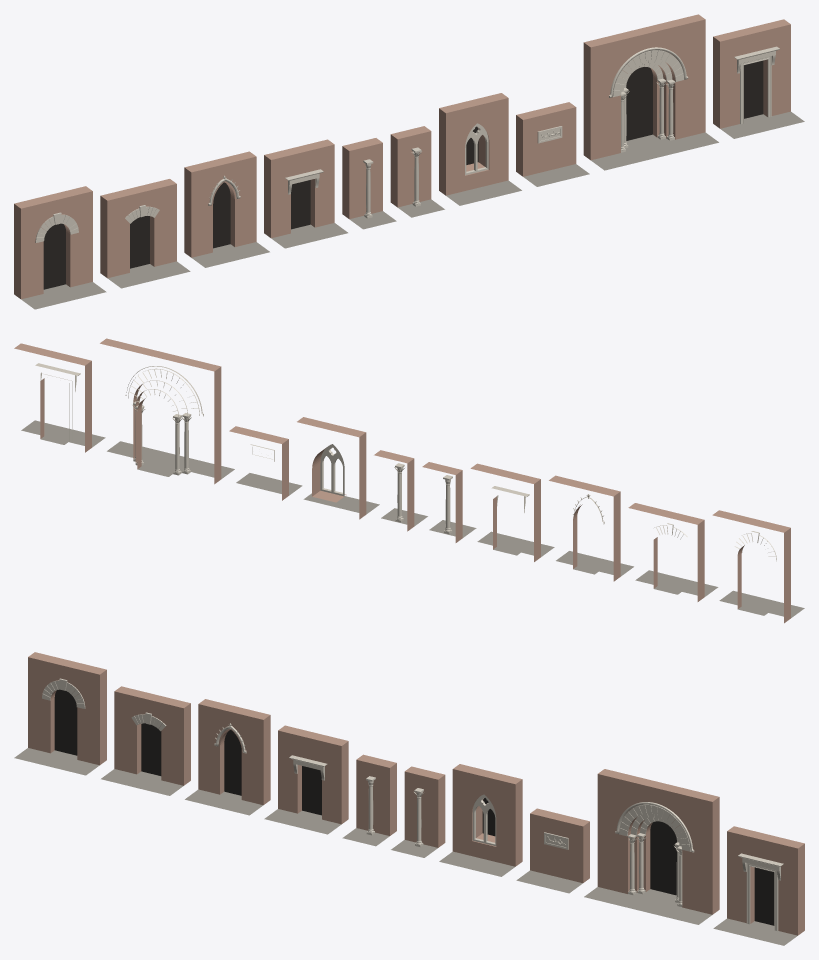
The model's file is k09_carved_trim_kit.glb.
3 renders of one model, top to bottom at view 1: azimuth 30°, elevation 25°; view 2: azimuth 150°, elevation 25°; view 3: azimuth 330°, elevation 25°, orthographic.
Parts seen in each view (by area): view 1: k09.surround.hero_romanesque, k09.trim.arch_ring_round, k09.surround.rowhouse_restrained, k09.trim.hood_pointed_crocketed, k09.trim.arch_ring_segmental, k09.trim.tracery_two_light, k09.trim.lintel_cornice_hood, k09.trim.foliate_panel, k09.trim.colonnette_foliate, k09.trim.colonnette_tuscan; view 2: k09.surround.hero_romanesque, k09.trim.tracery_two_light, k09.surround.rowhouse_restrained, k09.trim.arch_ring_round, k09.trim.arch_ring_segmental, k09.trim.hood_pointed_crocketed, k09.trim.lintel_cornice_hood, k09.trim.foliate_panel, k09.trim.colonnette_tuscan, k09.trim.colonnette_foliate; view 3: k09.surround.hero_romanesque, k09.trim.arch_ring_round, k09.surround.rowhouse_restrained, k09.trim.hood_pointed_crocketed, k09.trim.arch_ring_segmental, k09.trim.tracery_two_light, k09.trim.lintel_cornice_hood, k09.trim.foliate_panel, k09.trim.colonnette_foliate, k09.trim.colonnette_tuscan.
Part boxes in pixels (bbox=[...]): k09.surround.hero_romanesque: bbox=[583, 14, 718, 170]; k09.trim.arch_ring_round: bbox=[14, 186, 106, 309]; k09.surround.rowhouse_restrained: bbox=[713, 19, 804, 138]; k09.trim.hood_pointed_crocketed: bbox=[184, 151, 269, 267]; k09.trim.arch_ring_segmental: bbox=[100, 179, 190, 288]; k09.trim.tracery_two_light: bbox=[439, 93, 521, 205]; k09.trim.lintel_cornice_hood: bbox=[264, 139, 347, 248]; k09.trim.foliate_panel: bbox=[516, 102, 589, 186]; k09.trim.colonnette_foliate: bbox=[390, 126, 444, 217]; k09.trim.colonnette_tuscan: bbox=[342, 138, 396, 229]; k09.surround.hero_romanesque: bbox=[100, 338, 234, 484]; k09.trim.tracery_two_light: bbox=[297, 417, 379, 519]; k09.surround.rowhouse_restrained: bbox=[14, 343, 105, 452]; k09.trim.arch_ring_round: bbox=[712, 510, 804, 623]; k09.trim.arch_ring_segmental: bbox=[628, 503, 718, 601]; k09.trim.hood_pointed_crocketed: bbox=[549, 475, 633, 581]; k09.trim.lintel_cornice_hood: bbox=[470, 463, 554, 561]; k09.trim.foliate_panel: bbox=[229, 426, 302, 500]; k09.trim.colonnette_tuscan: bbox=[422, 462, 476, 542]; k09.trim.colonnette_foliate: bbox=[374, 450, 427, 531]; k09.surround.hero_romanesque: bbox=[584, 769, 719, 924]; k09.trim.arch_ring_round: bbox=[14, 652, 106, 775]; k09.surround.rowhouse_restrained: bbox=[713, 826, 804, 945]; k09.trim.hood_pointed_crocketed: bbox=[185, 699, 270, 815]; k09.trim.arch_ring_segmental: bbox=[101, 686, 190, 795]; k09.trim.tracery_two_light: bbox=[439, 764, 522, 876]; k09.trim.lintel_cornice_hood: bbox=[264, 725, 348, 834]; k09.trim.foliate_panel: bbox=[516, 808, 589, 893]; k09.trim.colonnette_foliate: bbox=[391, 766, 445, 857]; k09.trim.colonnette_tuscan: bbox=[342, 754, 396, 846].
Bounding box in the file's own units: 31.9 × 4.47 × 1.78.
